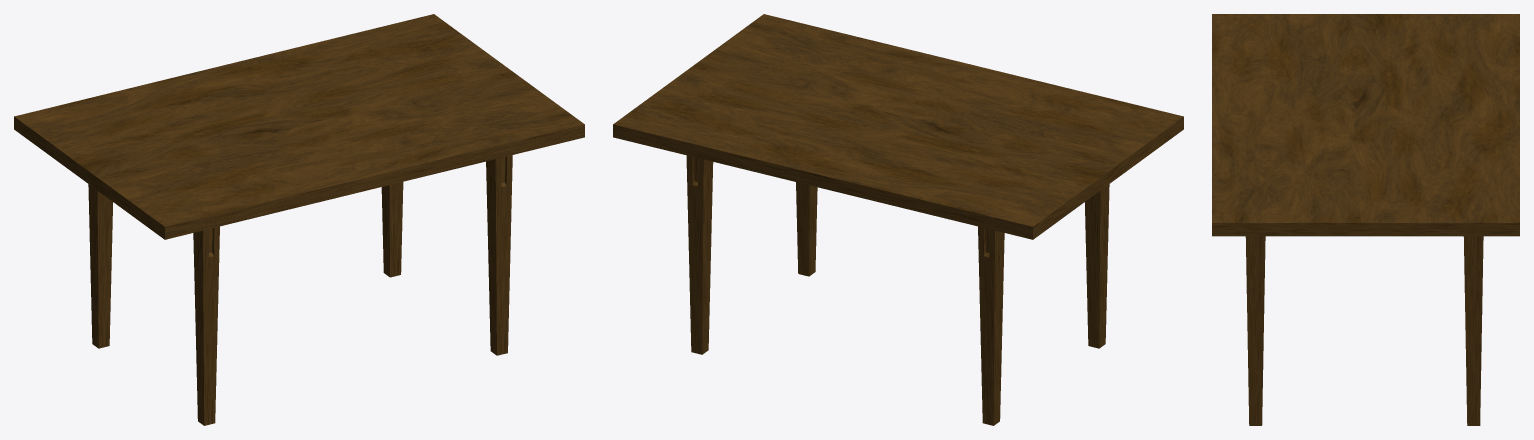
File: table.fbx
3 renders of one model, left to right at view 1: azimuth 30°, elevation 25°; view 2: azimuth 150°, elevation 25°; view 3: azimuth 270°, elevation 25°, orthographic.
Parts seen in each view (by area): view 1: Cube, Cube.004, Cube.001, Cube.002, Cube.003; view 2: Cube, Cube.002, Cube.003, Cube.001, Cube.004; view 3: Cube, Cube.003, Cube.004.
Boxes of the visible parts, x1,y1,x2,y2 form: Cube: [14, 14, 584, 239]; Cube.004: [486, 155, 512, 355]; Cube.001: [193, 226, 219, 425]; Cube.002: [88, 184, 112, 348]; Cube.003: [381, 182, 403, 277]; Cube: [613, 14, 1183, 239]; Cube.002: [978, 226, 1004, 425]; Cube.003: [686, 155, 713, 354]; Cube.001: [1085, 184, 1109, 348]; Cube.004: [796, 182, 817, 276]; Cube: [1212, 14, 1519, 236]; Cube.003: [1463, 236, 1483, 425]; Cube.004: [1245, 236, 1265, 425].
Size of the model in its own units: 1594 by 826 by 992.
